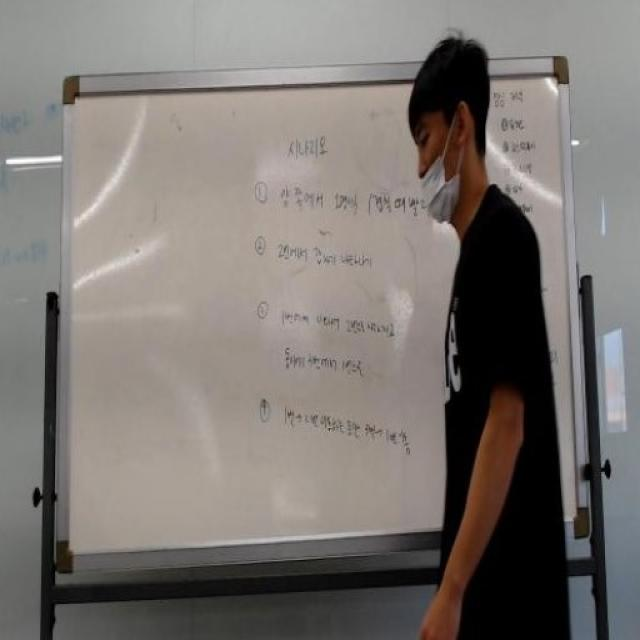Instructor: (375, 28, 584, 616)
White-board: (65, 64, 582, 558)
